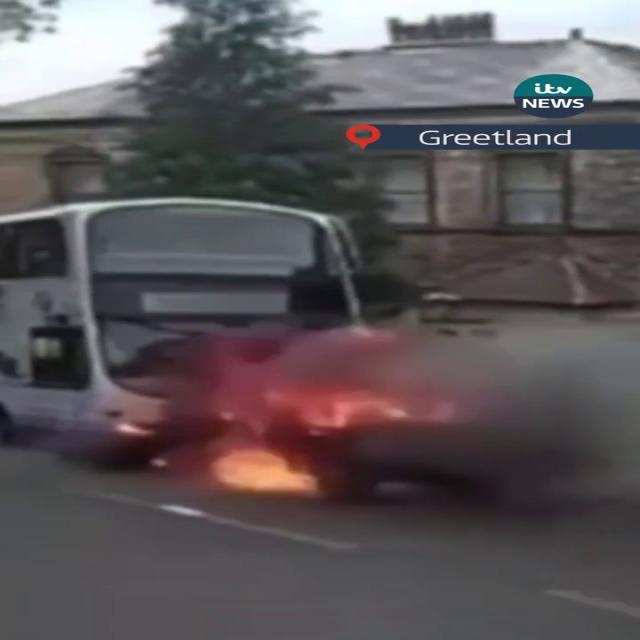Smoke: (181, 301, 635, 518)
